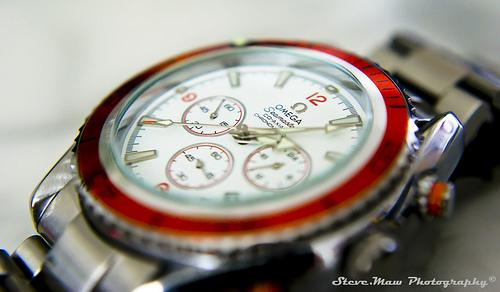watch: (33, 39, 485, 257)
